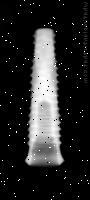Cowellmedi: (21, 26, 64, 168)
